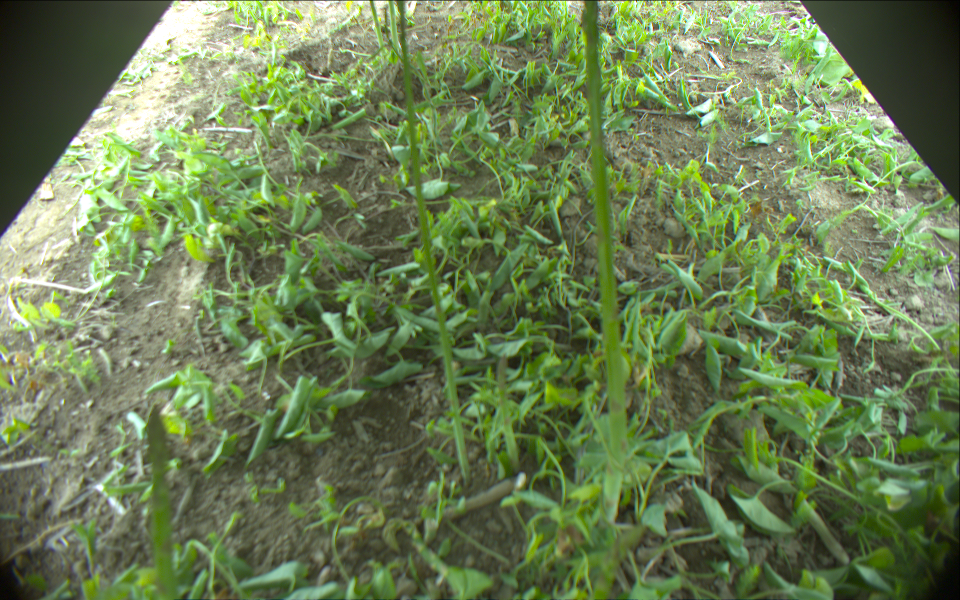aspa: (396, 1, 471, 484), (580, 1, 626, 524), (147, 404, 176, 600), (496, 353, 521, 469), (368, 1, 385, 50), (387, 1, 397, 50)
